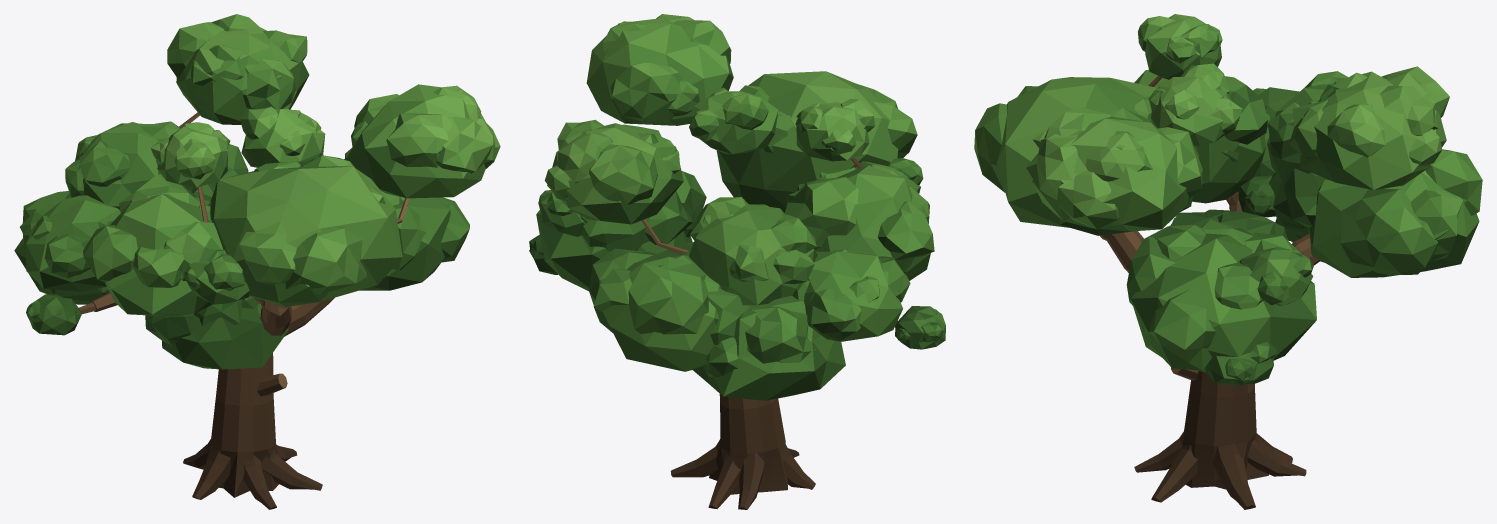
Rendered from oak.glb.
3 views of the same model, side by side, from view 1: azimuth 30°, elevation 25°; view 2: azimuth 150°, elevation 25°; view 3: azimuth 270°, elevation 25° (orthographic). The views are drawn at different scales.
Visible parts, largest first — view 1: oak; view 2: oak; view 3: oak.
Boxes of the visible parts, <box> form: oak: <box>14,14,500,509</box>; oak: <box>529,14,945,509</box>; oak: <box>974,14,1482,509</box>.
Size of the model in its own units: 6.03 by 5.38 by 5.77.
